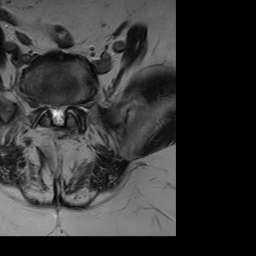CCS_normal: (54, 96, 61, 136)
LFS_severe_stenosis: (67, 94, 74, 118)
LLS_stenosis: (61, 96, 67, 123)
RFS_severe_stenosis: (41, 92, 48, 117)
RLS_normal: (48, 97, 54, 124)
